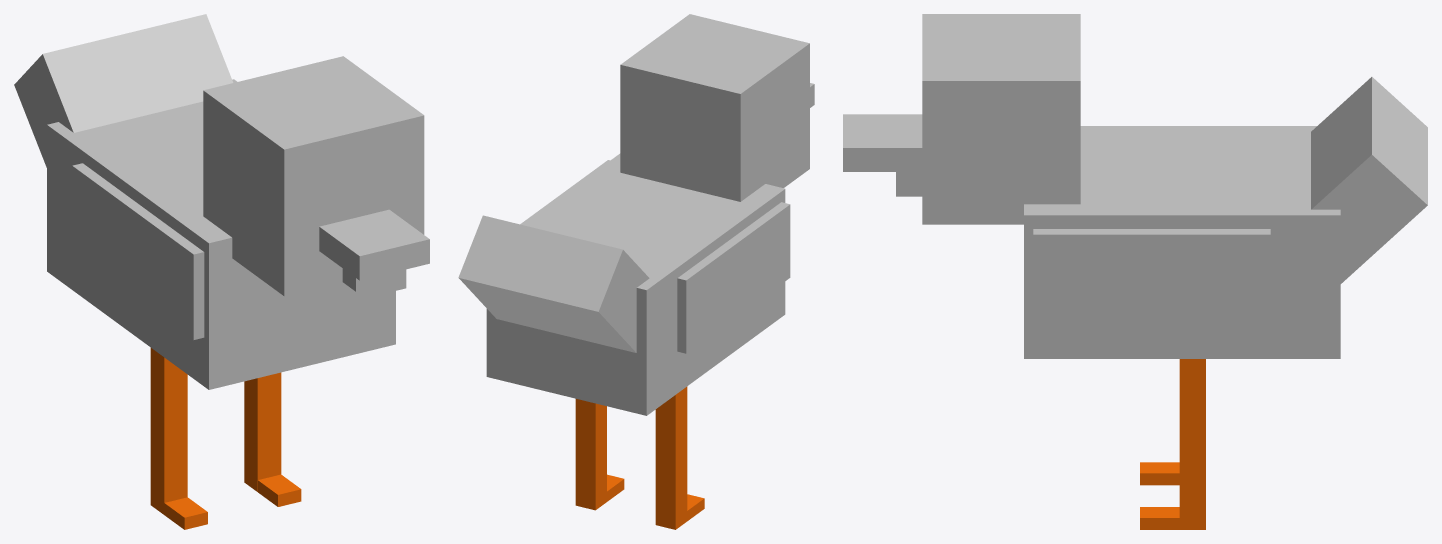
The model's file is Chicken.obj.
3 views of the same model, side by side, from view 1: azimuth 30°, elevation 25°; view 2: azimuth 150°, elevation 25°; view 3: azimuth 270°, elevation 25° (orthographic). The views are drawn at different scales.
Visible parts, largest first — view 1: Chiken1, Chiken2, Wing11, Leftleg1, Rightleg1; view 2: Chiken1, Chiken2, Wing11, Leftleg1, Rightleg1; view 3: Chiken1, Chiken2, Wing21, Rightleg1, Leftleg1.
Boxes of the visible parts, left/top/right/bottom form: Chiken1: left=14, top=14, right=395, bottom=389; Chiken2: left=203, top=56, right=429, bottom=296; Wing11: left=72, top=163, right=204, bottom=339; Leftleg1: left=150, top=348, right=207, bottom=529; Rightleg1: left=244, top=372, right=301, bottom=506; Chiken1: left=458, top=153, right=785, bottom=415; Chiken2: left=620, top=14, right=814, bottom=201; Wing11: left=677, top=202, right=790, bottom=353; Leftleg1: left=655, top=386, right=704, bottom=529; Rightleg1: left=575, top=399, right=624, bottom=510; Chiken1: left=1024, top=77, right=1427, bottom=358; Chiken2: left=843, top=14, right=1080, bottom=224; Wing21: left=1033, top=229, right=1270, bottom=318; Rightleg1: left=1140, top=359, right=1205, bottom=529; Leftleg1: left=1140, top=462, right=1179, bottom=485.
Bounding box in the file's own units: 2.27 × 4.75 × 5.54.
